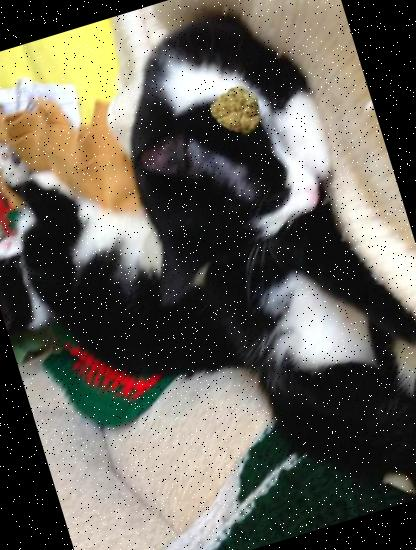Cauliflower: (206, 76, 272, 143)
